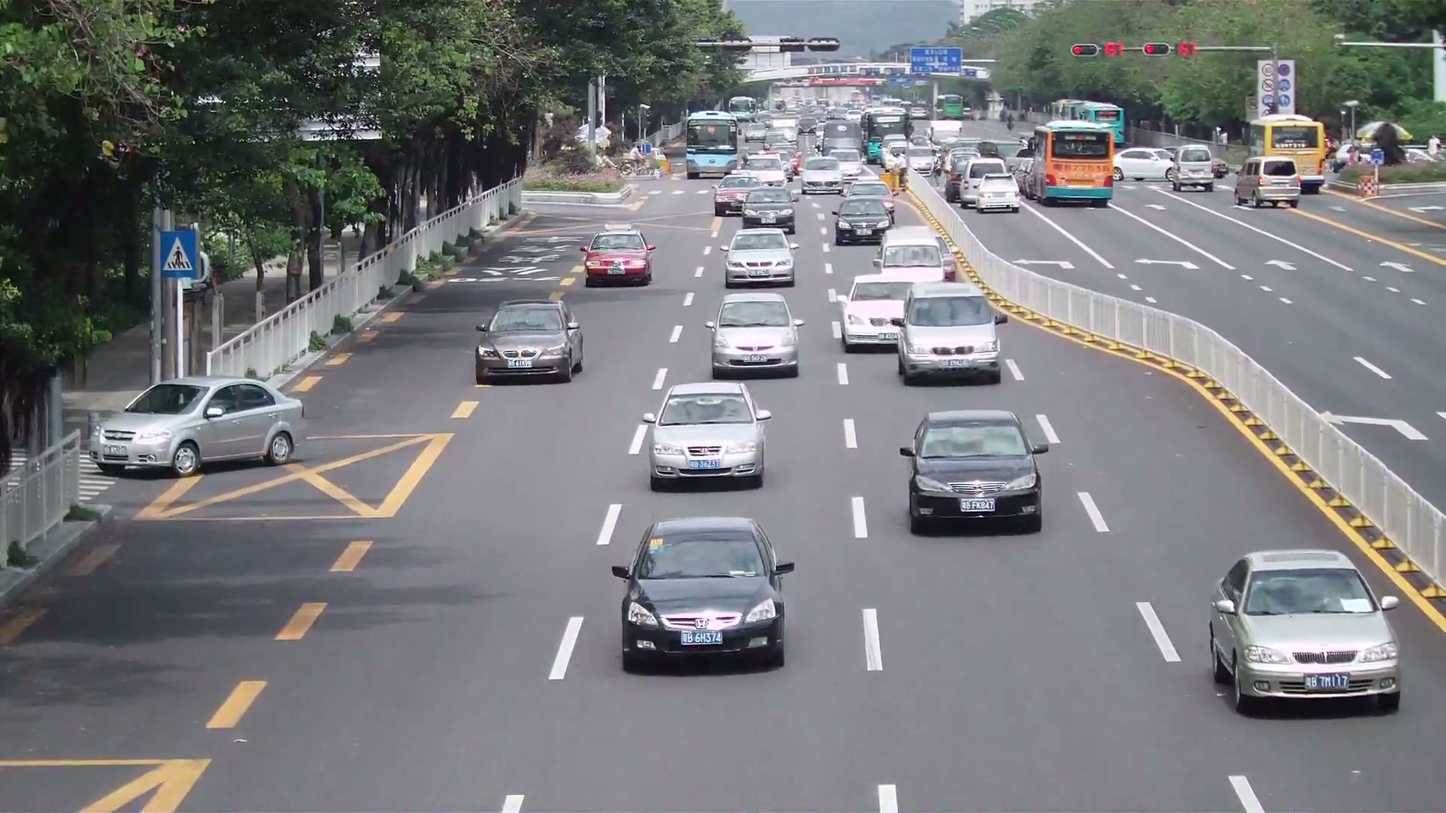bus: (685, 107, 738, 178)
car: (1207, 549, 1403, 717), (612, 516, 794, 674), (91, 377, 307, 478), (898, 408, 1049, 536), (633, 380, 770, 491), (894, 281, 1003, 386), (473, 299, 584, 386), (840, 272, 949, 353), (708, 293, 801, 378), (722, 227, 797, 288), (582, 225, 655, 287), (742, 186, 798, 231), (1169, 144, 1215, 191), (1116, 147, 1174, 183), (714, 171, 759, 215)
truck: (1024, 121, 1115, 207), (1242, 114, 1332, 193), (1233, 155, 1302, 209)
